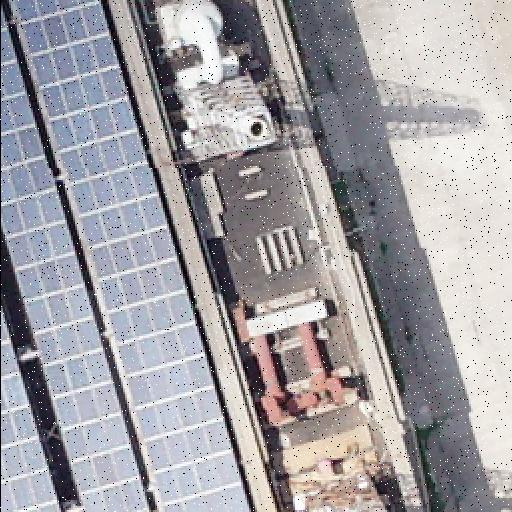solar-panel: (10, 0, 250, 512), (1, 4, 151, 512), (1, 304, 63, 512)
